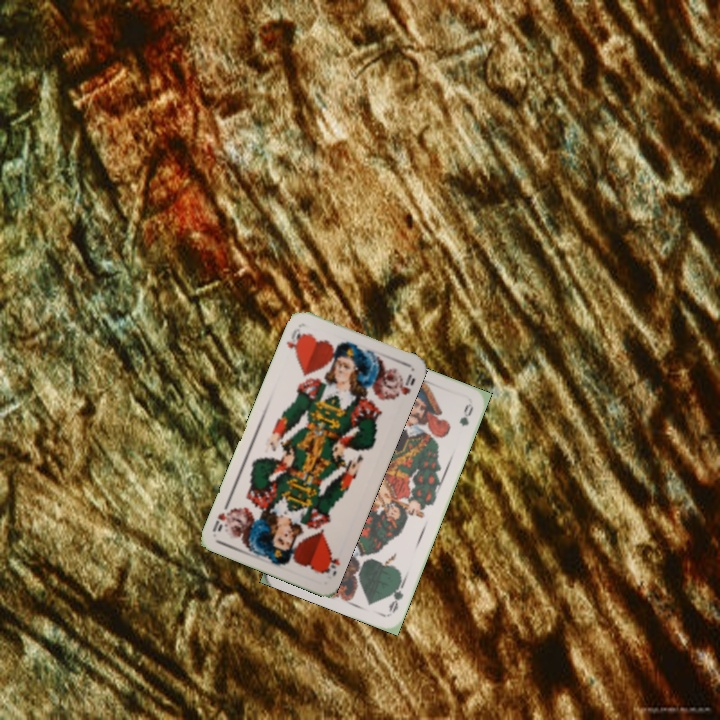GO: (384, 576, 408, 616)
HO: (282, 324, 307, 357), (319, 548, 343, 579)
